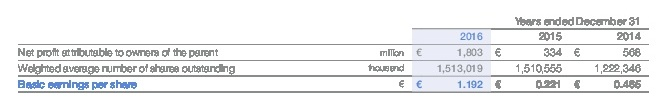table: (0, 0, 664, 109)
